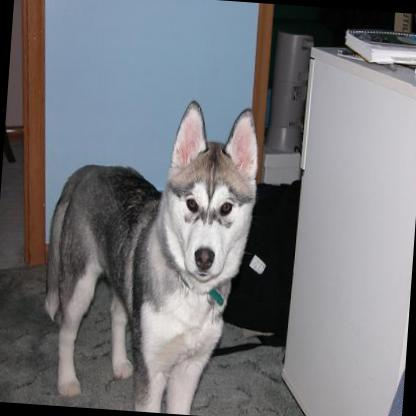Eskimo_dog: (34, 86, 264, 416)
